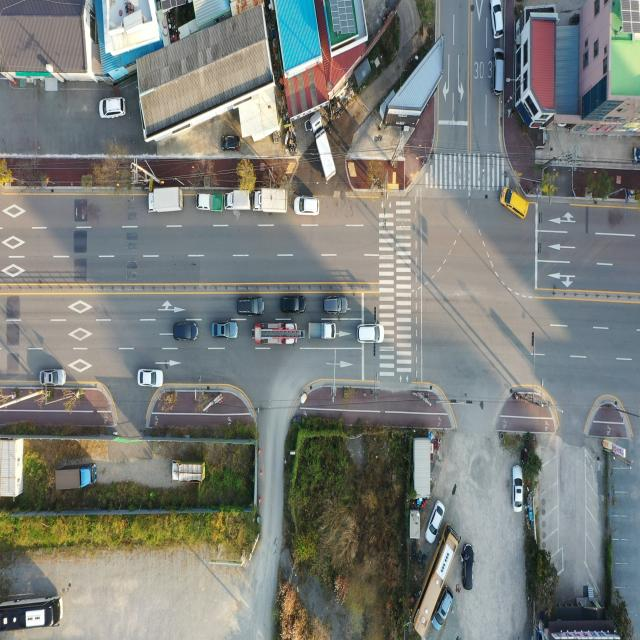car: (431, 582, 455, 634), (499, 182, 529, 220), (460, 542, 475, 594), (426, 503, 444, 546), (493, 40, 504, 96), (98, 95, 124, 117), (240, 294, 265, 316), (296, 196, 321, 217), (357, 323, 383, 343), (492, 0, 505, 39), (174, 322, 198, 342), (212, 322, 238, 340), (40, 368, 66, 386), (514, 467, 524, 513), (138, 368, 162, 387), (325, 295, 349, 314), (282, 296, 305, 315), (222, 133, 241, 152)
large_bus: (411, 523, 460, 640), (0, 592, 63, 632), (308, 321, 336, 340)
medium_truck: (310, 112, 339, 183), (53, 461, 100, 496), (252, 318, 298, 350), (250, 184, 290, 217), (148, 182, 184, 215)
small_truck: (172, 461, 206, 485), (223, 190, 252, 213), (197, 189, 224, 213)
